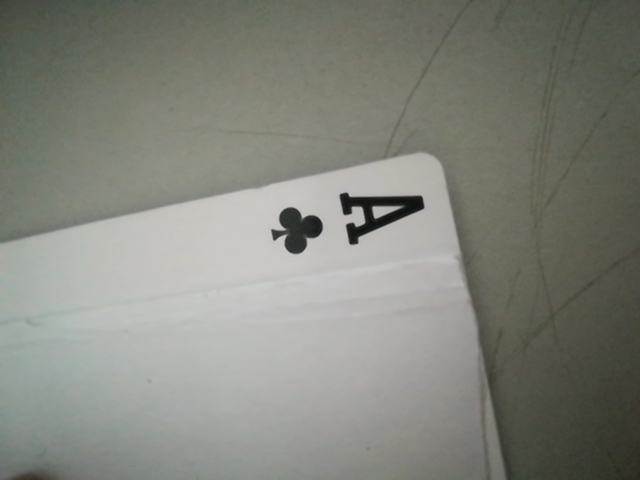mh a: (255, 178, 438, 262)
